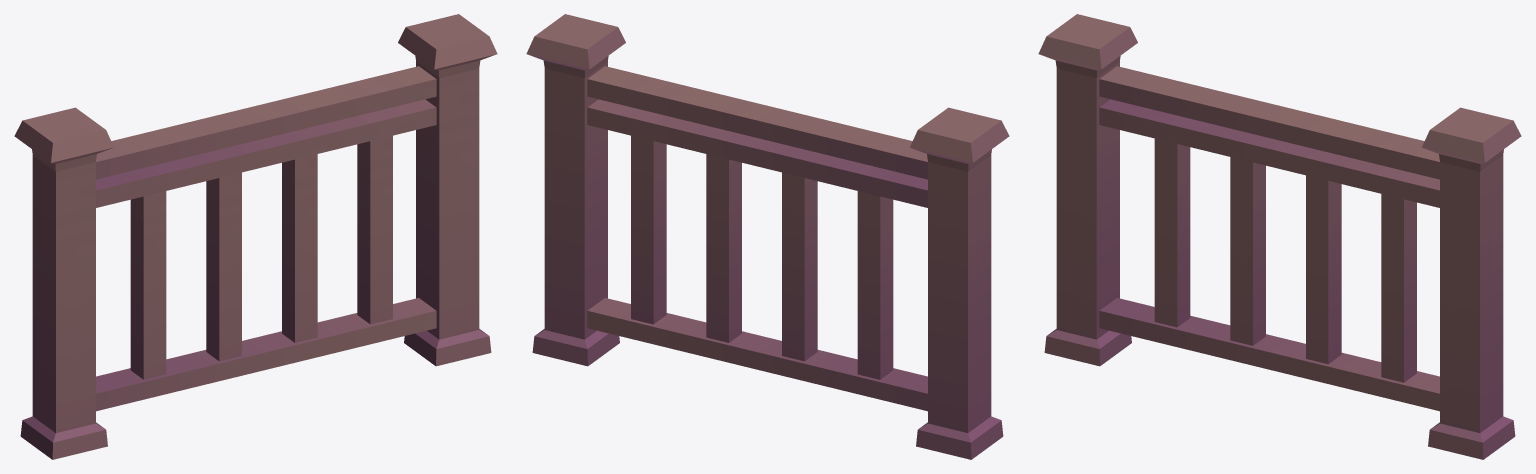
The model's file is fence.obj.
3 renders of one model, left to right at view 1: azimuth 30°, elevation 25°; view 2: azimuth 150°, elevation 25°; view 3: azimuth 330°, elevation 25°, orthographic.
Parts seen in each view (by area): view 1: fence; view 2: fence; view 3: fence.
Part boxes in pixels (x1,y1,x2,y2): fence: (14, 14, 497, 459); fence: (526, 14, 1009, 459); fence: (1038, 14, 1521, 459).
Bounding box in the file's own units: 4.43 × 3 × 0.6277.
Materials: 1 (1 with a texture image).
